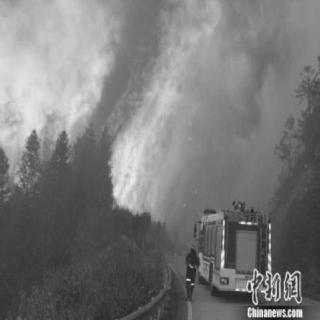Fire: (96, 12, 194, 234)
Smoke: (10, 5, 276, 133)
